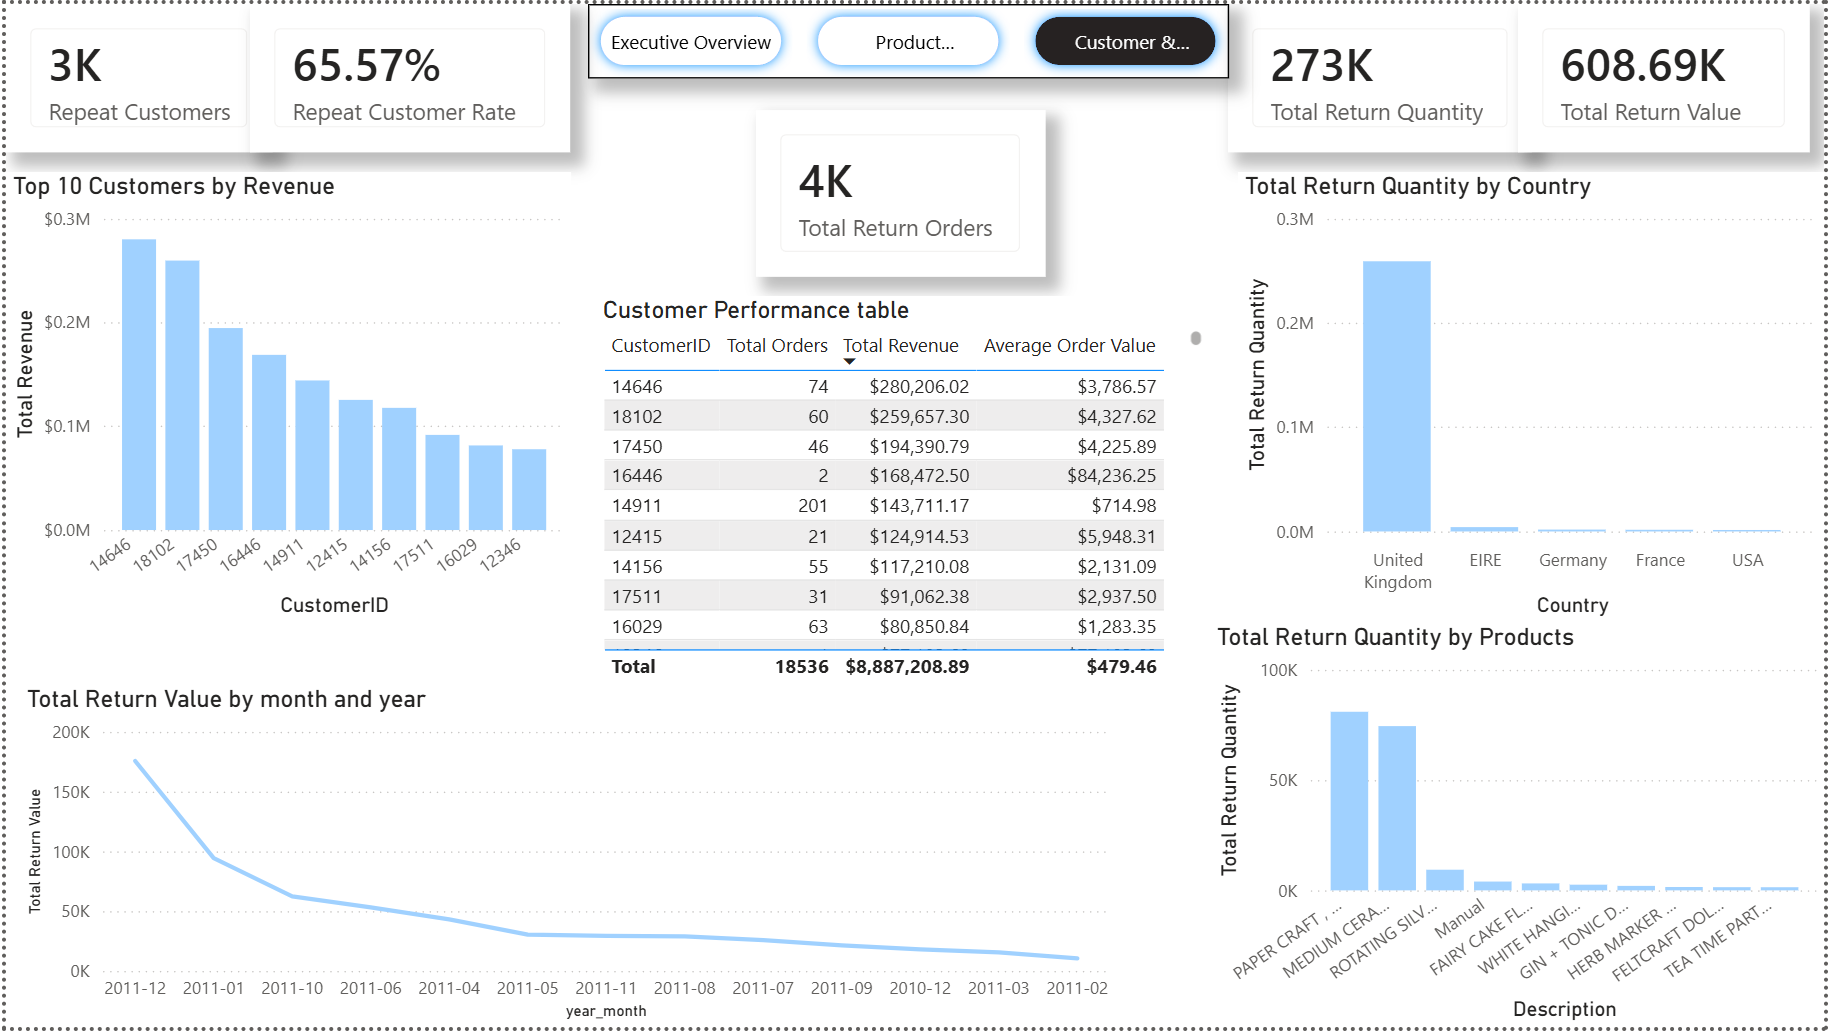

Layout of this report page (visuals, bound fields, positions):
{"tool":"powerbi","page":{"name":"Customer & Returns Insights","canvas":[1280,720],"ordinal":2},"visuals":[{"type":"cardVisual","fields":{"Data":["Sales_table.Repeat Customers"]},"box":[0,0,187.4,104.5],"z":0},{"type":"cardVisual","fields":{"Data":["Sales_table.Repeat Customer Rate"]},"box":[172.1,0,225.7,104.5],"z":1000},{"type":"cardVisual","fields":{"Data":["returns_transaction.Total Return Orders"]},"box":[527.8,75.2,204,117.3],"z":2000},{"type":"cardVisual","fields":{"Data":["returns_transaction.Total Return Quantity"]},"box":[860.6,0,214.2,104.5],"z":3000},{"type":"cardVisual","fields":{"Data":["returns_transaction.Total Return Value"]},"box":[1064.5,0,205.3,104.5],"z":4000},{"type":"clusteredColumnChart","title":"Top 10 Customers by Revenue","fields":{"Category":["Sales_table.CustomerID"],"Y":["Sales_table.total revenue"]},"box":[0,117.9,398.1,316.9],"z":5000},{"type":"tableEx","title":"Customer Performance table","fields":{"Values":["Sales_table.CustomerID","Sales_table.Total Orders","Sales_table.total revenue","Sales_table.Average Order Value"]},"box":[415.6,205.3,432.2,274.1],"z":6000},{"type":"lineChart","title":"Total Return Value by month and year","fields":{"Category":["returns_transaction.year_month"],"Y":["returns_transaction.Total Return Value"]},"box":[9.2,479.2,774.7,240.4],"z":7000},{"type":"clusteredColumnChart","fields":{"Category":["returns_transaction.Country"],"Y":["returns_transaction.Total Return Quantity"]},"box":[868.1,117.9,413.4,316.9],"z":8000},{"type":"clusteredColumnChart","title":"Total Return Quantity by Products","fields":{"Y":["returns_transaction.Total Return Quantity"],"Category":["returns_transaction.Description"]},"box":[848.2,434.8,433.3,284.8],"z":9000},{"type":"pageNavigator","box":[409.2,0,451.3,52.3],"z":9001}]}

Visuals, with their boxes in screenshot pixels (x1, y1, x2, y2), scaled from the page's 1280x720 canvas onto the 1834x1032 screenshot:
cardVisual - Sales_table.Repeat Customers: [0,0,269,150]
cardVisual - Sales_table.Repeat Customer Rate: [247,0,570,150]
cardVisual - returns_transaction.Total Return Orders: [756,108,1049,276]
cardVisual - returns_transaction.Total Return Quantity: [1233,0,1540,150]
cardVisual - returns_transaction.Total Return Value: [1525,0,1819,150]
"Top 10 Customers by Revenue" clusteredColumnChart: [0,169,570,623]
"Customer Performance table" tableEx: [595,294,1215,687]
"Total Return Value by month and year" lineChart: [13,687,1123,1031]
clusteredColumnChart - returns_transaction.Country x returns_transaction.Total Return Quantity: [1244,169,1833,623]
"Total Return Quantity by Products" clusteredColumnChart: [1215,623,1833,1031]
pageNavigator: [586,0,1233,75]
